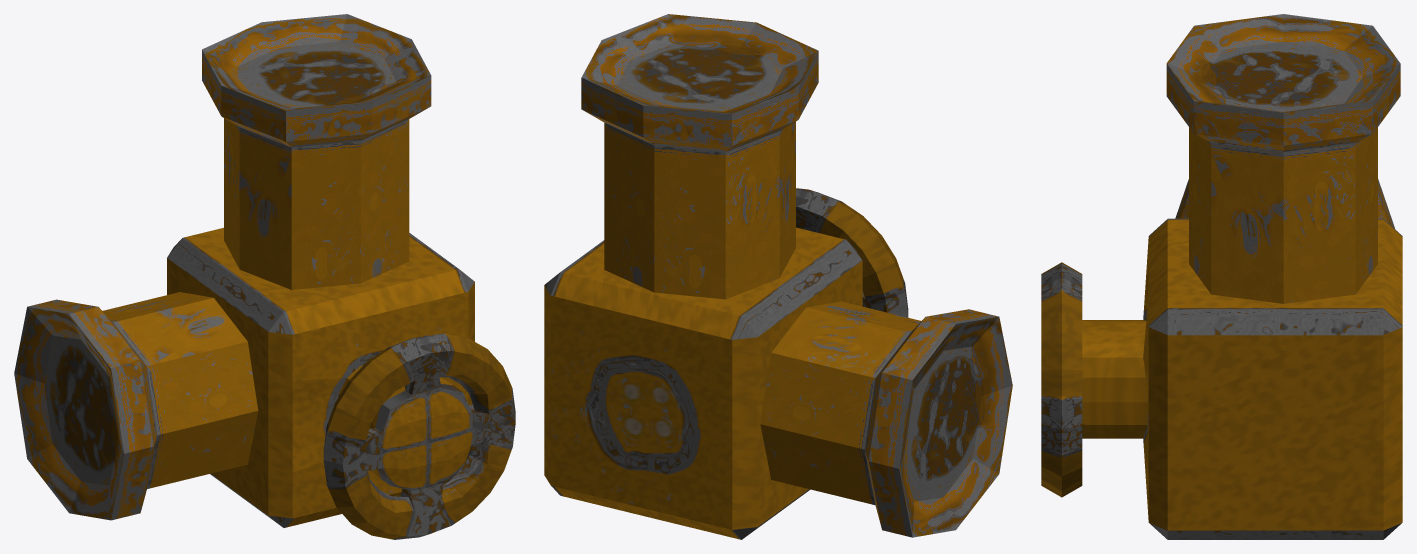
File: pipe_inter_L.fbx
3 renders of one model, left to right at view 1: azimuth 30°, elevation 25°; view 2: azimuth 150°, elevation 25°; view 3: azimuth 270°, elevation 25°, orthographic. The views are drawn at different scales.
Visible parts, largest first — view 1: Cube.020, Cube.021, Cube.022; view 2: Cube.020, Cube.021, Cube.022; view 3: Cube.020, Cube.021, Cube.022.
Part boxes in pixels (x1,y1,x2,y2): Cube.020: (167,227,515,539); Cube.021: (202,14,431,289); Cube.022: (14,292,258,520); Cube.020: (544,188,908,539); Cube.021: (581,14,818,299); Cube.022: (760,301,1012,537); Cube.020: (1041,218,1402,539); Cube.021: (1166,14,1400,303); Cube.022: (1175,179,1394,228).
Bounding box in the file's own units: 457 × 503 × 382.
